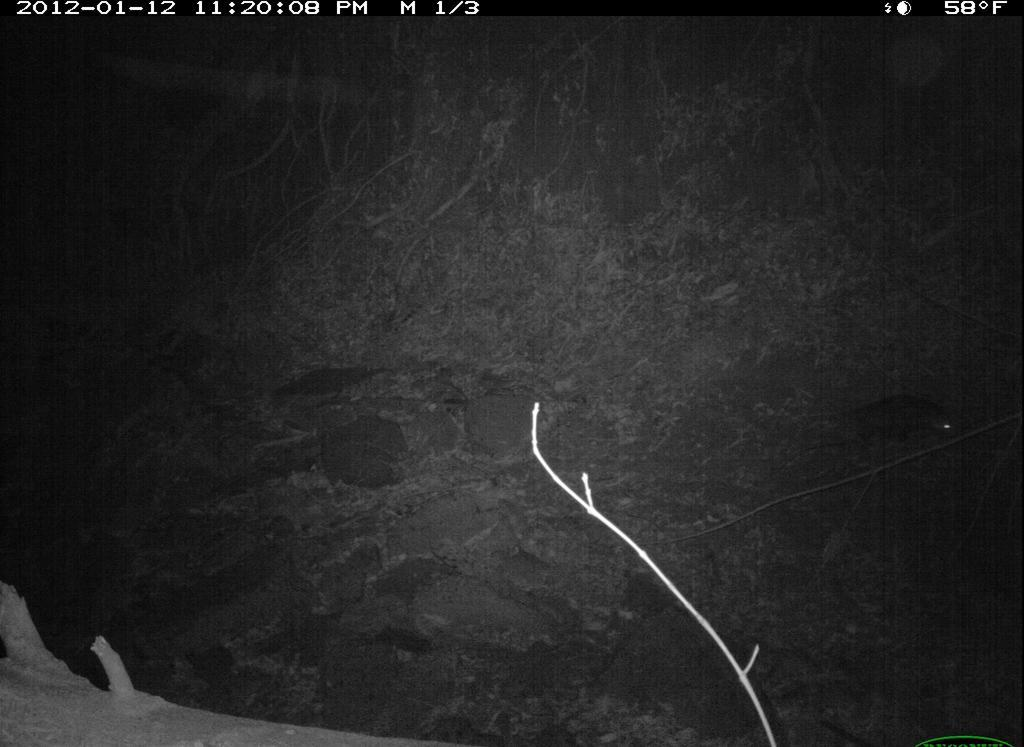opossum: (827, 374, 969, 464)
